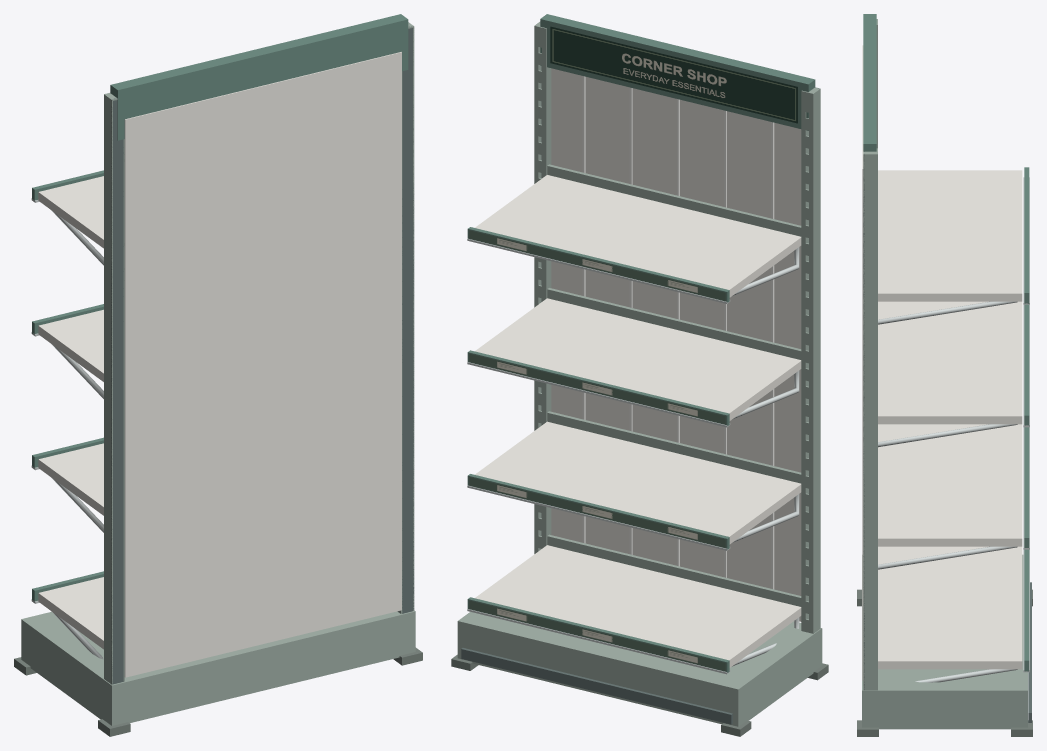
The model's file is wall-shelf-narrow.glb.
3 views of the same model, side by side, from view 1: azimuth 30°, elevation 25°; view 2: azimuth 150°, elevation 25°; view 3: azimuth 270°, elevation 25° (orthographic). The views are drawn at different scales.
Parts seen in each view (by area): view 1: library-equipment-wall-shelf-narrow-product-equipment-cream, library-equipment-wall-shelf-narrow-product-equipment-sage, library-equipment-wall-shelf-narrow-product-equipment-forest, library-equipment-wall-shelf-narrow-product-equipment-dark, library-equipment-wall-shelf-narrow-product-equipment-steel, library-equipment-wall-shelf-narrow-product-equipment-rubber; view 2: library-equipment-wall-shelf-narrow-product-equipment-cream, library-equipment-wall-shelf-narrow-product-equipment-sage, library-equipment-wall-shelf-narrow-product-equipment-forest, library-equipment-wall-shelf-narrow-wall-shelf-narrow-corner, library-equipment-wall-shelf-narrow-product-label-equipment-, library-equipment-wall-shelf-narrow-product-equipment-steel, library-equipment-wall-shelf-narrow-product-equipment-white, library-equipment-wall-shelf-narrow-product-equipment-dark, library-equipment-wall-shelf-narrow-product-equipment-rubber; view 3: library-equipment-wall-shelf-narrow-product-equipment-cream, library-equipment-wall-shelf-narrow-product-equipment-sage, library-equipment-wall-shelf-narrow-product-equipment-forest, library-equipment-wall-shelf-narrow-product-equipment-steel, library-equipment-wall-shelf-narrow-product-equipment-dark, library-equipment-wall-shelf-narrow-product-equipment-rubber.
Part boxes in pixels (bbox=[...]): library-equipment-wall-shelf-narrow-product-equipment-cream: bbox=[38, 52, 401, 677]; library-equipment-wall-shelf-narrow-product-equipment-sage: bbox=[21, 22, 415, 725]; library-equipment-wall-shelf-narrow-product-equipment-forest: bbox=[32, 14, 408, 601]; library-equipment-wall-shelf-narrow-product-equipment-dark: bbox=[111, 26, 414, 684]; library-equipment-wall-shelf-narrow-product-equipment-steel: bbox=[31, 198, 103, 659]; library-equipment-wall-shelf-narrow-product-equipment-rubber: bbox=[14, 647, 422, 736]; library-equipment-wall-shelf-narrow-product-equipment-cream: bbox=[475, 68, 801, 667]; library-equipment-wall-shelf-narrow-product-equipment-sage: bbox=[457, 21, 822, 726]; library-equipment-wall-shelf-narrow-product-equipment-forest: bbox=[467, 14, 815, 672]; library-equipment-wall-shelf-narrow-wall-shelf-narrow-corner: bbox=[550, 26, 797, 123]; library-equipment-wall-shelf-narrow-product-label-equipment-: bbox=[469, 230, 725, 671]; library-equipment-wall-shelf-narrow-product-equipment-steel: bbox=[467, 238, 799, 674]; library-equipment-wall-shelf-narrow-product-equipment-white: bbox=[582, 76, 774, 589]; library-equipment-wall-shelf-narrow-product-equipment-dark: bbox=[461, 66, 818, 724]; library-equipment-wall-shelf-narrow-product-equipment-rubber: bbox=[451, 654, 828, 736]; library-equipment-wall-shelf-narrow-product-equipment-cream: bbox=[862, 45, 1022, 680]; library-equipment-wall-shelf-narrow-product-equipment-sage: bbox=[862, 19, 1027, 729]; library-equipment-wall-shelf-narrow-product-equipment-forest: bbox=[863, 14, 1029, 671]; library-equipment-wall-shelf-narrow-product-equipment-steel: bbox=[878, 177, 1029, 682]; library-equipment-wall-shelf-narrow-product-equipment-dark: bbox=[863, 151, 1031, 722]; library-equipment-wall-shelf-narrow-product-equipment-rubber: bbox=[857, 589, 1032, 736].
Bounding box in the file's own units: 0.98 × 1.92 × 0.52.
Materials: 9 (2 with a texture image).
